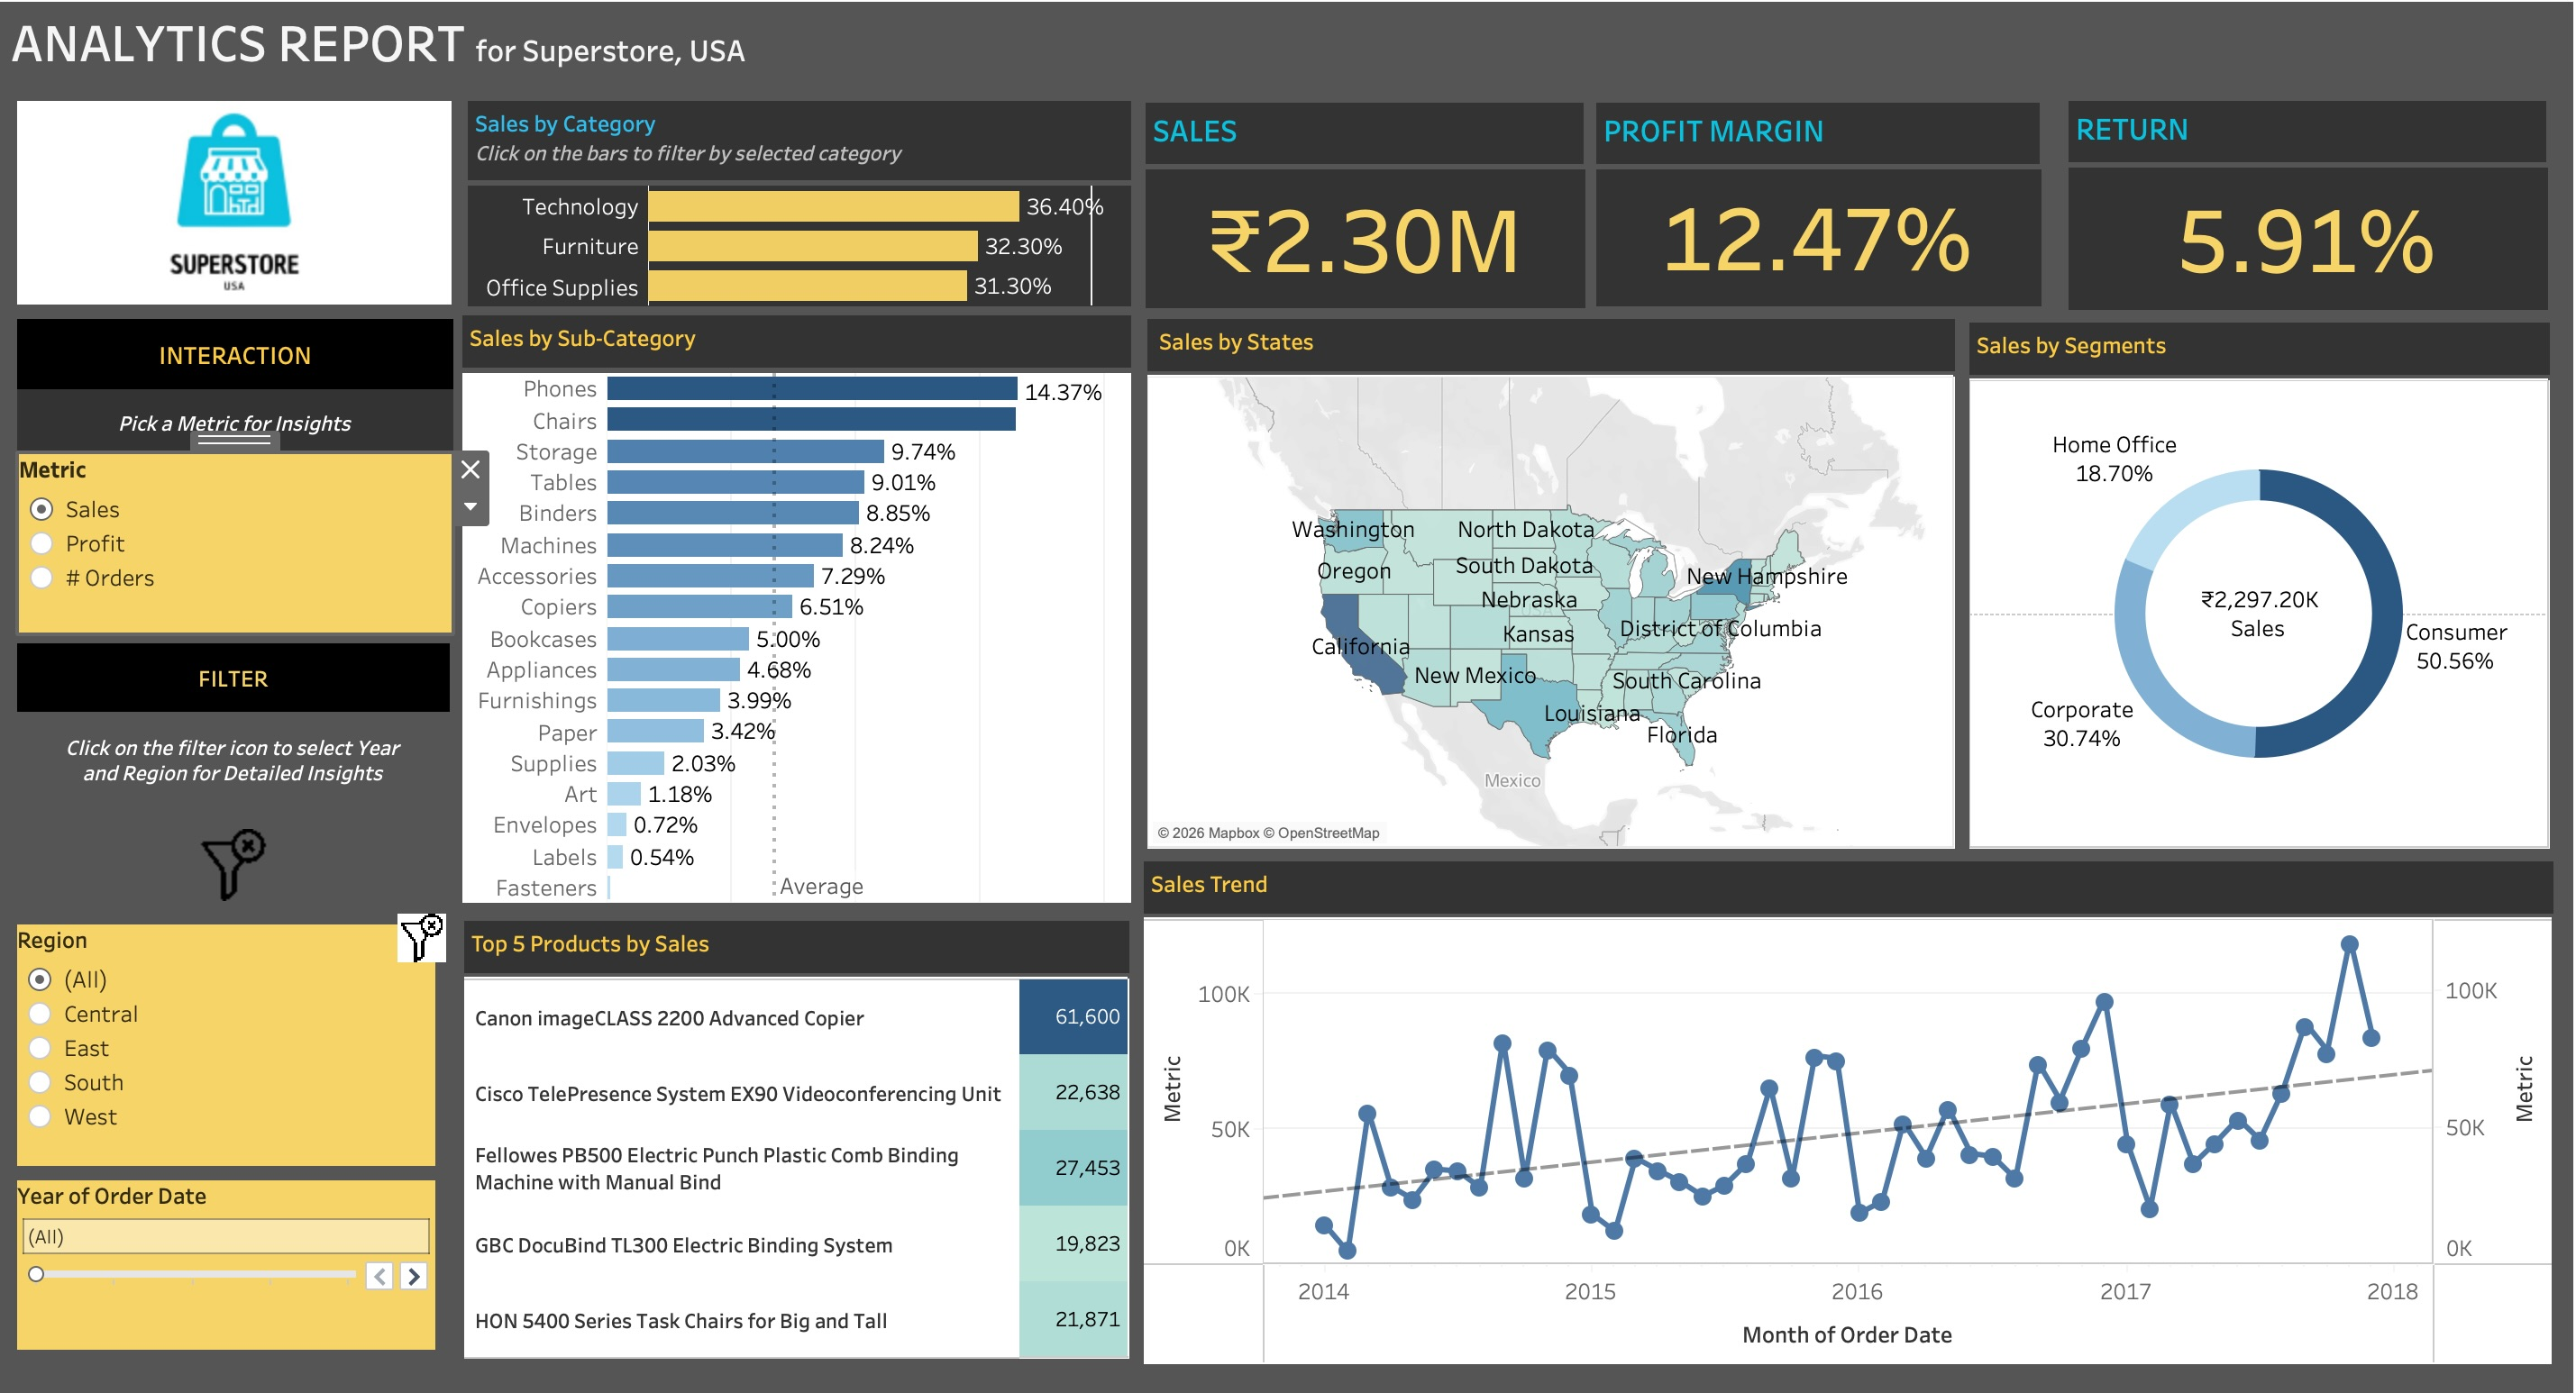

Layout of this report page (visuals, bound fields, positions):
{"tool":"tableau","page":{"name":"Analytics Report(Dashboard)","canvas":[1000,1000],"units":"permille","ordinal":0},"visuals":[{"type":"title","box":[5.5,10.1,988.9,56.9]},{"type":"image","param":"Image/icon.jpg","box":[12.7,79.7,166.8,142.9]},{"type":"worksheet","title":"Sales by Category","mark":"Automatic","rows":["Category"],"cols":["Calculation_92183056382672898"],"box":[185.6,79.7,254.8,144.1]},{"type":"worksheet","title":"Sales(M)","mark":"Automatic","box":[446,80.9,184.9,150.4]},{"type":"worksheet","title":"Profit","mark":"Automatic","box":[619.1,80.9,295.7,168.1]},{"type":"worksheet","title":"sales by sub category","mark":"Automatic","rows":["Sub-Category"],"cols":["Calculation_92183056382672898"],"box":[183.5,230.1,256.9,412.1]},{"type":"text","box":[12.7,232.6,167.6,49.3]},{"type":"worksheet","title":"Sales by state","mark":"Automatic","box":[446.7,232.6,310.2,371.7]},{"type":"worksheet","title":"Sales by Segment","mark":"Pie","rows":["Calculation_92183056388612100","Calculation_92183056388612100"],"box":[762.5,235.2,223,369.2]},{"type":"text","box":[12.7,281.9,167.6,45.5]},{"type":"parameter","param":"[Parameters].[Parameter 2]","box":[13.5,327.4,166,125.2]},{"type":"text","box":[12.7,460.2,166,48]},{"type":"text","box":[12.7,500.6,166,82.2]},{"type":"image","param":"Image/hide_filter.png","box":[17.5,590.4,157.3,50.6]},{"type":"worksheet","title":"Sales Trend","mark":"Automatic","rows":["Calculation_92183056382672898","Calculation_92183056382672898"],"cols":["Order Date"],"box":[445.6,613.1,541.7,352.7]},{"type":"dashboard-object","box":[158.6,650.1,18.7,34.1]},{"type":"filter","title":"Sales by state","param":"[federated.0inkqib194rz1f16ip8av0oxnxrd].[none:Region:nk]","box":[9.7,652.9,166.2,179.5]},{"type":"worksheet","title":"Top 5 product by sales","mark":"Square","rows":["Product Name"],"box":[184.2,654.9,273.6,312.3]},{"type":"filter","title":"Sales by Category","param":"[federated.0inkqib194rz1f16ip8av0oxnxrd].[yr:Order Date:ok]","box":[9.7,832.4,166.2,128.9]}]}

Visuals, with their boxes on the dashboard's canvas, which has no fixed pixel size, in thousandths of its width and height (x1, y1, x2, y2). These are canvas units, not pixel positions in the 2576x1393 screenshot, which may show the page scaled, cropped or inside an application window:
title: detection(6, 10, 994, 67)
image: detection(13, 80, 180, 223)
"Sales by Category" worksheet: detection(186, 80, 440, 224)
"Sales(M)" worksheet: detection(446, 81, 631, 231)
"Profit" worksheet: detection(619, 81, 915, 249)
"sales by sub category" worksheet: detection(184, 230, 440, 642)
text: detection(13, 233, 180, 282)
"Sales by state" worksheet: detection(447, 233, 757, 604)
"Sales by Segment" worksheet (Pie marks): detection(762, 235, 986, 604)
text: detection(13, 282, 180, 327)
parameter: detection(14, 327, 180, 453)
text: detection(13, 460, 179, 508)
text: detection(13, 501, 179, 583)
image: detection(18, 590, 175, 641)
"Sales Trend" worksheet: detection(446, 613, 987, 966)
dashboard-object: detection(159, 650, 177, 684)
"Sales by state" filter: detection(10, 653, 176, 832)
"Top 5 product by sales" worksheet (Square marks): detection(184, 655, 458, 967)
"Sales by Category" filter: detection(10, 832, 176, 961)
